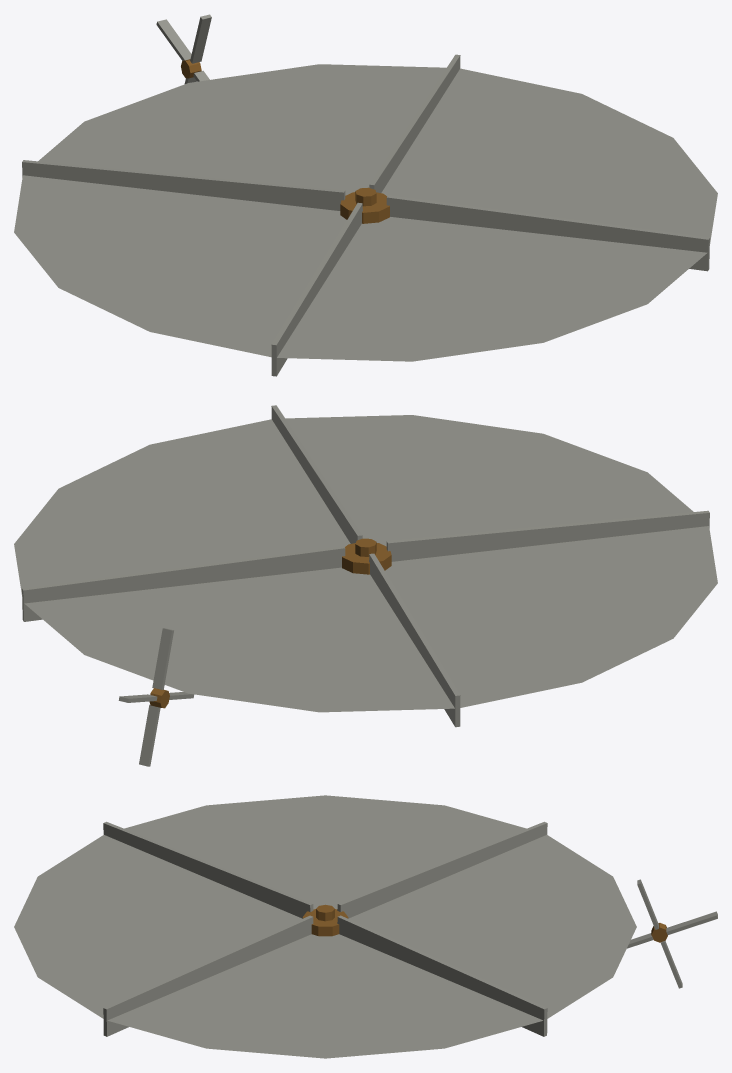
Rendered from SM_NH90_v2_Arido_LOD1.fbx.
The picture shows the model from 3 angles, top to bottom: view 1: azimuth 30°, elevation 25°; view 2: azimuth 150°, elevation 25°; view 3: azimuth 270°, elevation 25°; orthographic projection. The views are drawn at different scales.
Visible parts, largest first — view 1: DiscoRotor, RotorPrincipal, RotorCola; view 2: DiscoRotor, RotorPrincipal, RotorCola; view 3: DiscoRotor, RotorPrincipal, RotorCola.
Part boxes in pixels (x1=…): DiscoRotor: x1=14, y1=64, x2=717, y2=361; RotorPrincipal: x1=22, y1=54, x2=709, y2=376; RotorCola: x1=156, y1=14, x2=211, y2=83; DiscoRotor: x1=14, y1=415, x2=717, y2=712; RotorPrincipal: x1=22, y1=405, x2=709, y2=727; RotorCola: x1=118, y1=628, x2=194, y2=766; DiscoRotor: x1=14, y1=795, x2=636, y2=1058; RotorPrincipal: x1=103, y1=821, x2=547, y2=1036; RotorCola: x1=627, y1=879, x2=717, y2=988.
Size of what is drawn, in the model's own units: 16.3 by 3.04 by 18.42.
